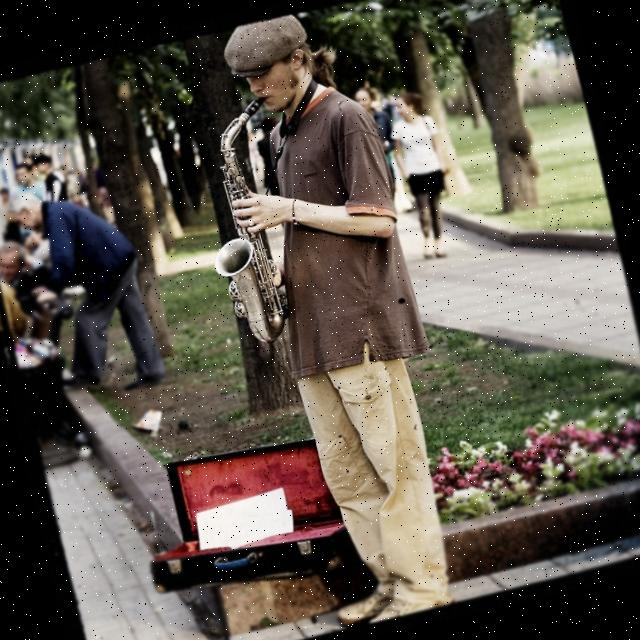saxophone: (178, 89, 326, 350)
